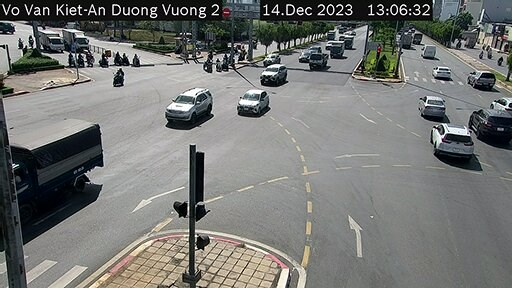car: (167, 86, 216, 128), (426, 122, 471, 156), (231, 91, 276, 121), (471, 107, 506, 143), (262, 60, 287, 85), (416, 96, 447, 115), (472, 68, 492, 86), (421, 44, 437, 59), (437, 64, 448, 83)
motorbike: (109, 67, 125, 87)
truck: (8, 117, 113, 208), (309, 51, 327, 71)
